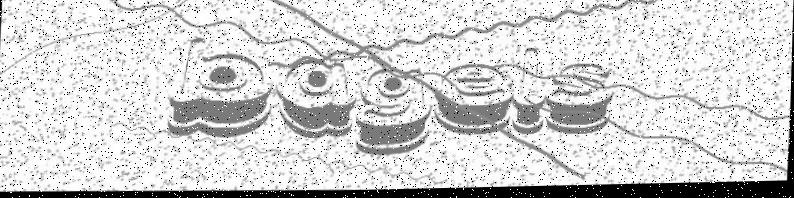a: (273, 61, 358, 141)
b: (167, 35, 277, 142)
e: (434, 64, 516, 139)
g: (355, 67, 435, 159)
l: (511, 48, 548, 140)
s: (543, 63, 615, 138)
